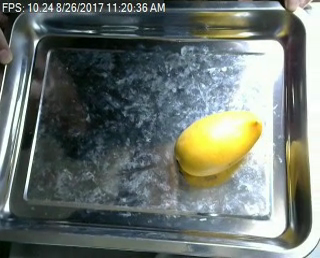Mango: (177, 107, 263, 176)
